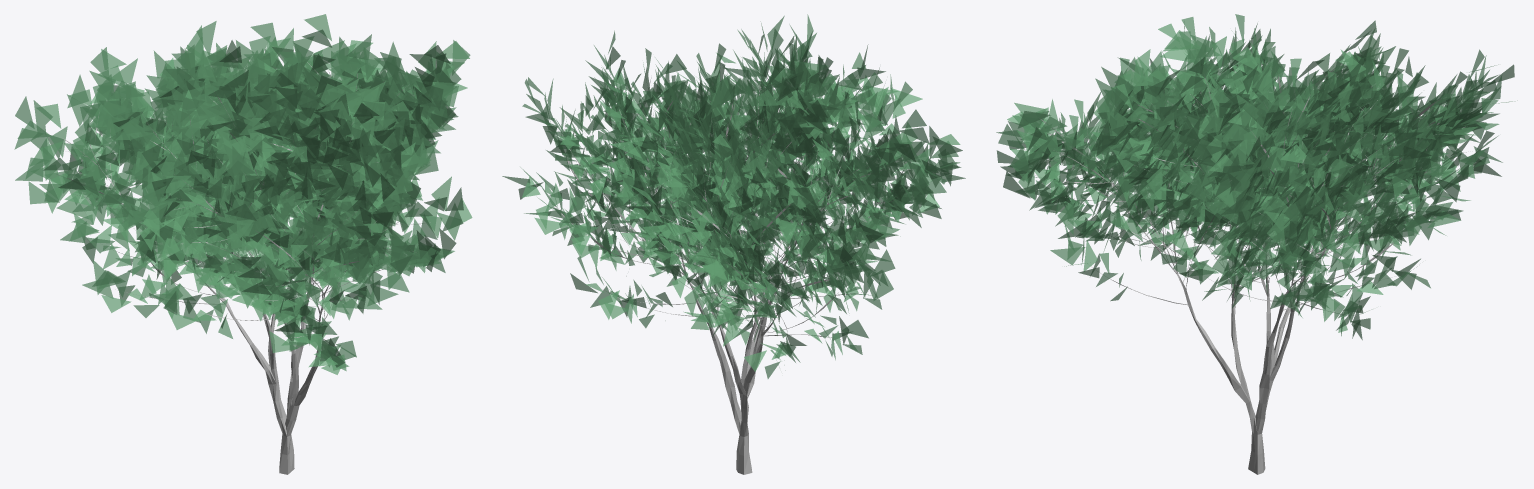
Rendered from KeyakiTree.fbx.
3 views of the same model, side by side, from view 1: azimuth 30°, elevation 25°; view 2: azimuth 150°, elevation 25°; view 3: azimuth 270°, elevation 25° (orthographic). The views are drawn at different scales.
Visible parts, largest first — view 1: keyakiPark1Leaf, keyakiPark1Main; view 2: keyakiPark1Leaf, keyakiPark1Main; view 3: keyakiPark1Leaf, keyakiPark1Main.
Boxes of the visible parts, left/top/right/bottom form: keyakiPark1Leaf: left=14, top=14, right=472, bottom=374; keyakiPark1Main: left=57, top=62, right=430, bottom=474; keyakiPark1Leaf: left=502, top=14, right=965, bottom=378; keyakiPark1Main: left=555, top=77, right=910, bottom=474; keyakiPark1Leaf: left=996, top=14, right=1517, bottom=340; keyakiPark1Main: left=1035, top=65, right=1471, bottom=474.
Size of the model in its own units: 25.65 by 25.69 by 27.55.
